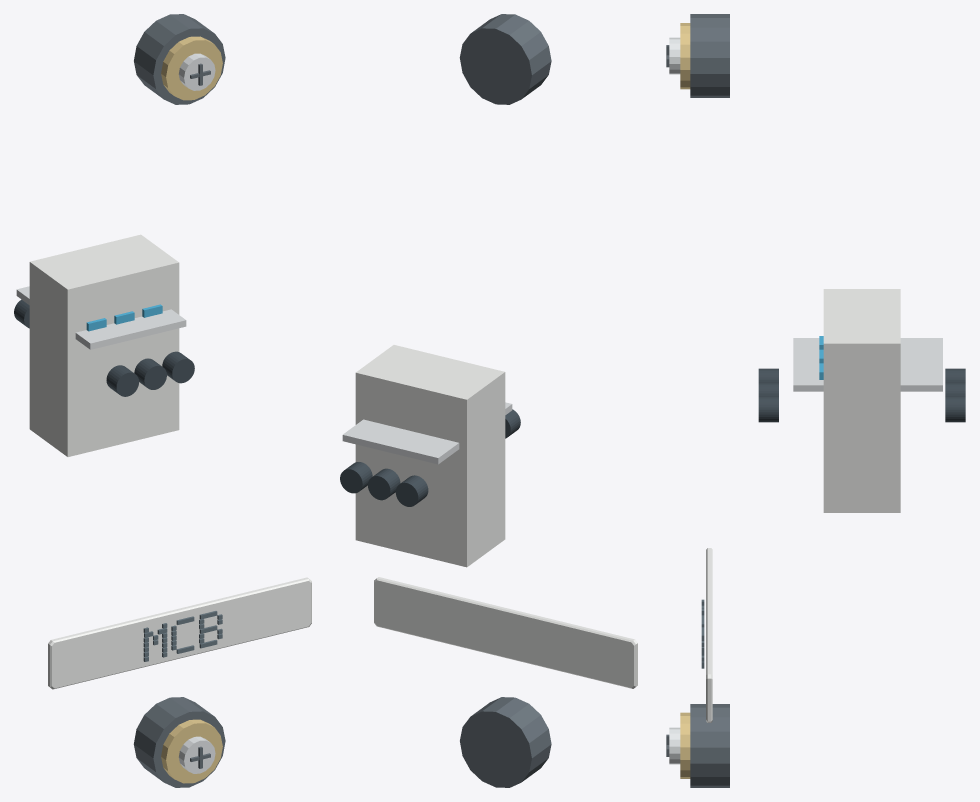
The model's file is circuitBreaker.glb.
3 views of the same model, side by side, from view 1: azimuth 30°, elevation 25°; view 2: azimuth 150°, elevation 25°; view 3: azimuth 270°, elevation 25° (orthographic).
Parts seen in each view (by area): view 1: circuitBreaker-preview; view 2: circuitBreaker-preview; view 3: circuitBreaker-preview.
Boxes of the visible parts, x1,y1,x2,y2 form: circuitBreaker-preview: (14, 14, 311, 787); circuitBreaker-preview: (340, 14, 637, 787); circuitBreaker-preview: (666, 14, 965, 787).
Size of the model in its own units: 1.14 by 3.15 by 1.11.
